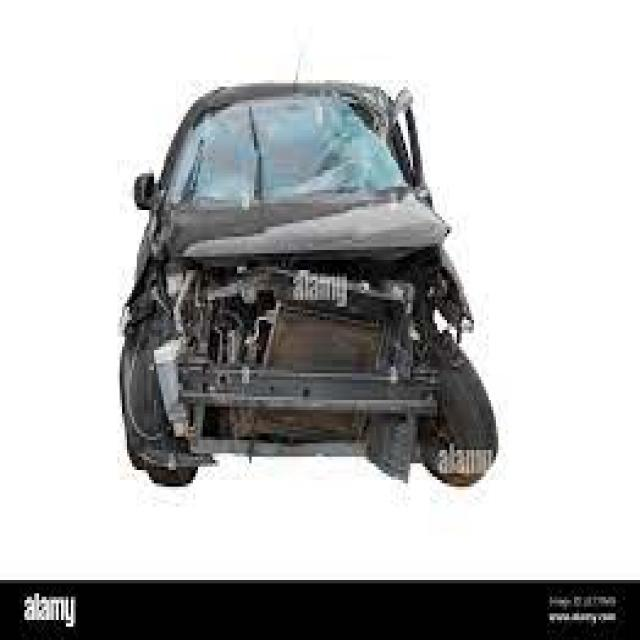severe: (160, 72, 510, 519)
